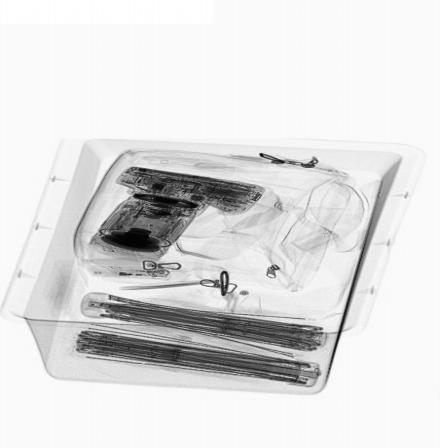Lighter: (110, 266, 174, 279)
